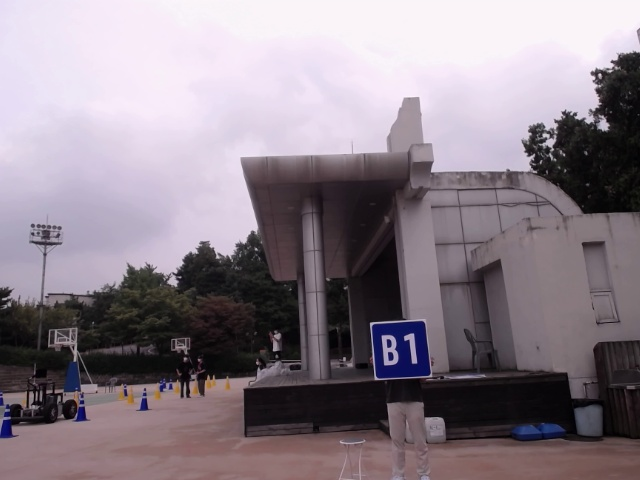delivery_b1: (371, 319, 432, 380)
